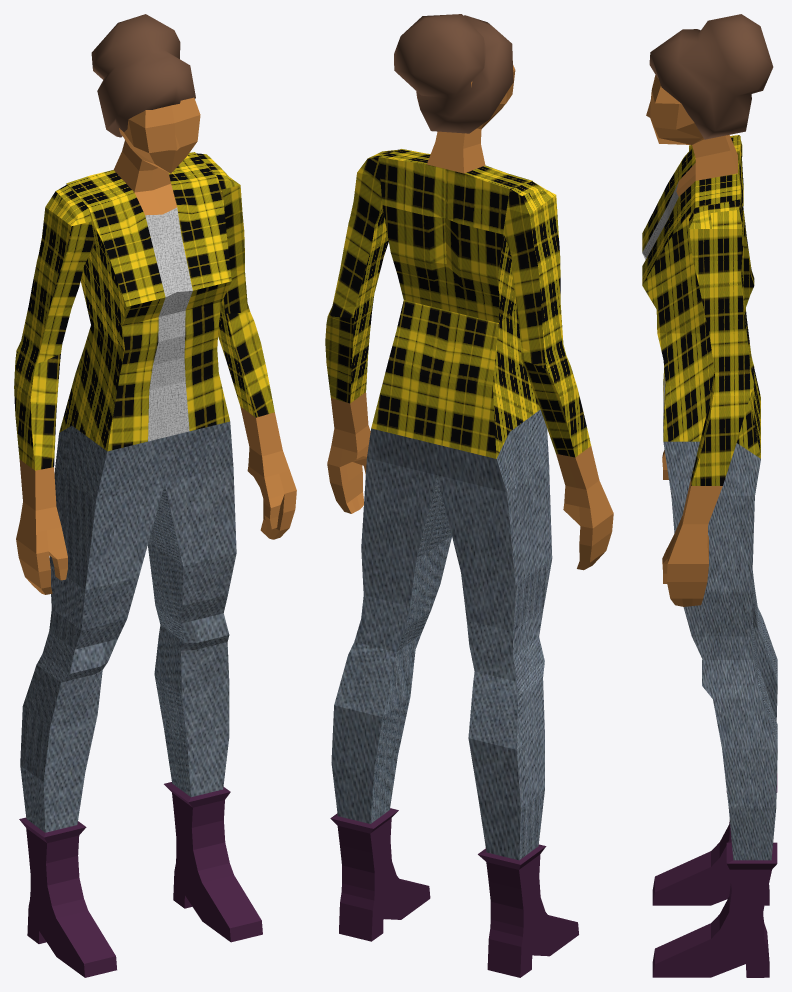
The model's file is Modelo_vanessa_texturizado.fbx.
3 views of the same model, side by side, from view 1: azimuth 30°, elevation 25°; view 2: azimuth 150°, elevation 25°; view 3: azimuth 270°, elevation 25° (orthographic). The views are drawn at different scales.
Parts seen in each view (by area): view 1: Corpo, Hair_01; view 2: Corpo, Hair_01; view 3: Corpo, Hair_01.
Boxes of the visible parts, x1,y1,x2,y2 form: Corpo: [14, 97, 296, 977]; Hair_01: [91, 14, 195, 137]; Corpo: [325, 65, 613, 977]; Hair_01: [394, 14, 513, 133]; Corpo: [642, 75, 777, 977]; Hair_01: [649, 14, 773, 139].
Size of the model in its own units: 161 by 535 by 71.66.
3 materials, 1 textured.
